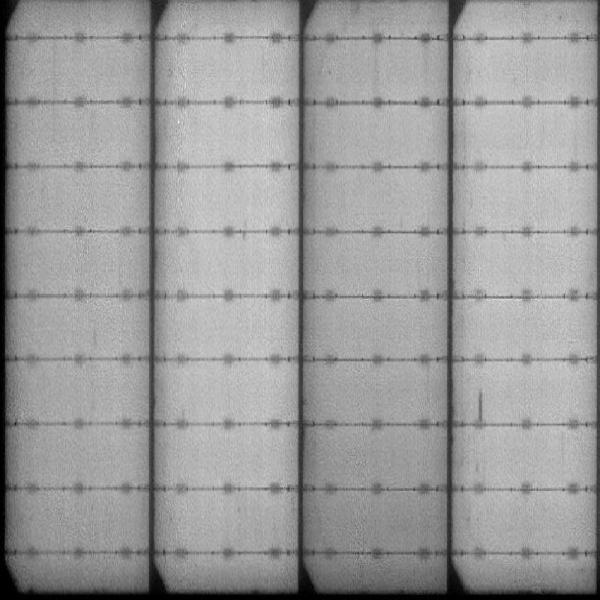scratch: (473, 389, 486, 421)
